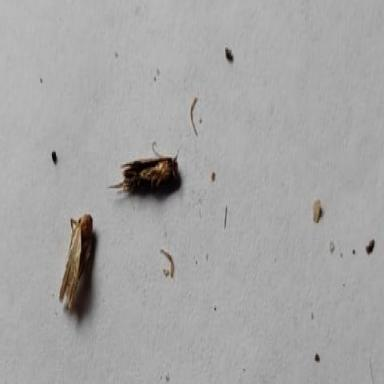pbw: (106, 140, 180, 196), (58, 212, 94, 310)
